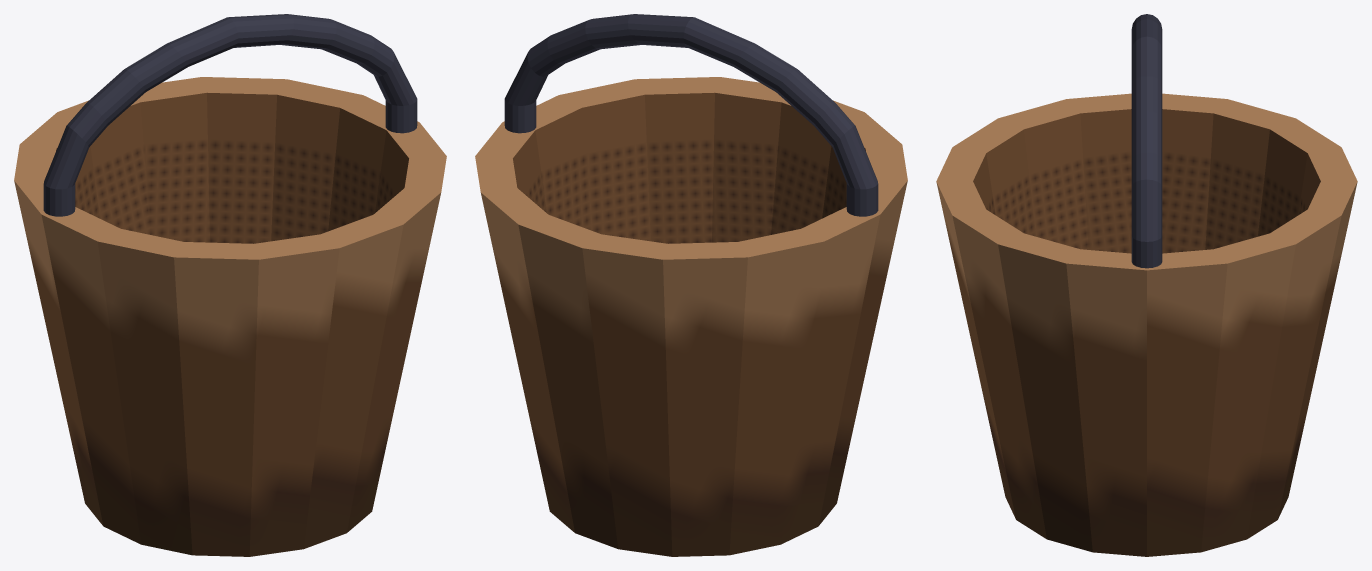
File: Cubeta Madera.fbx
The picture shows the model from 3 angles, left to right: view 1: azimuth 30°, elevation 25°; view 2: azimuth 150°, elevation 25°; view 3: azimuth 270°, elevation 25°; orthographic projection. The views are drawn at different scales.
Visible parts, largest first — view 1: Cylinder; view 2: Cylinder; view 3: Cylinder.
Part boxes in pixels (bbox=[...]): Cylinder: bbox=[14, 14, 446, 556]; Cylinder: bbox=[475, 14, 907, 556]; Cylinder: bbox=[936, 14, 1357, 556].
Size of the model in its own units: 79.99 by 79.99 by 96.47.
2 materials, 1 textured.
